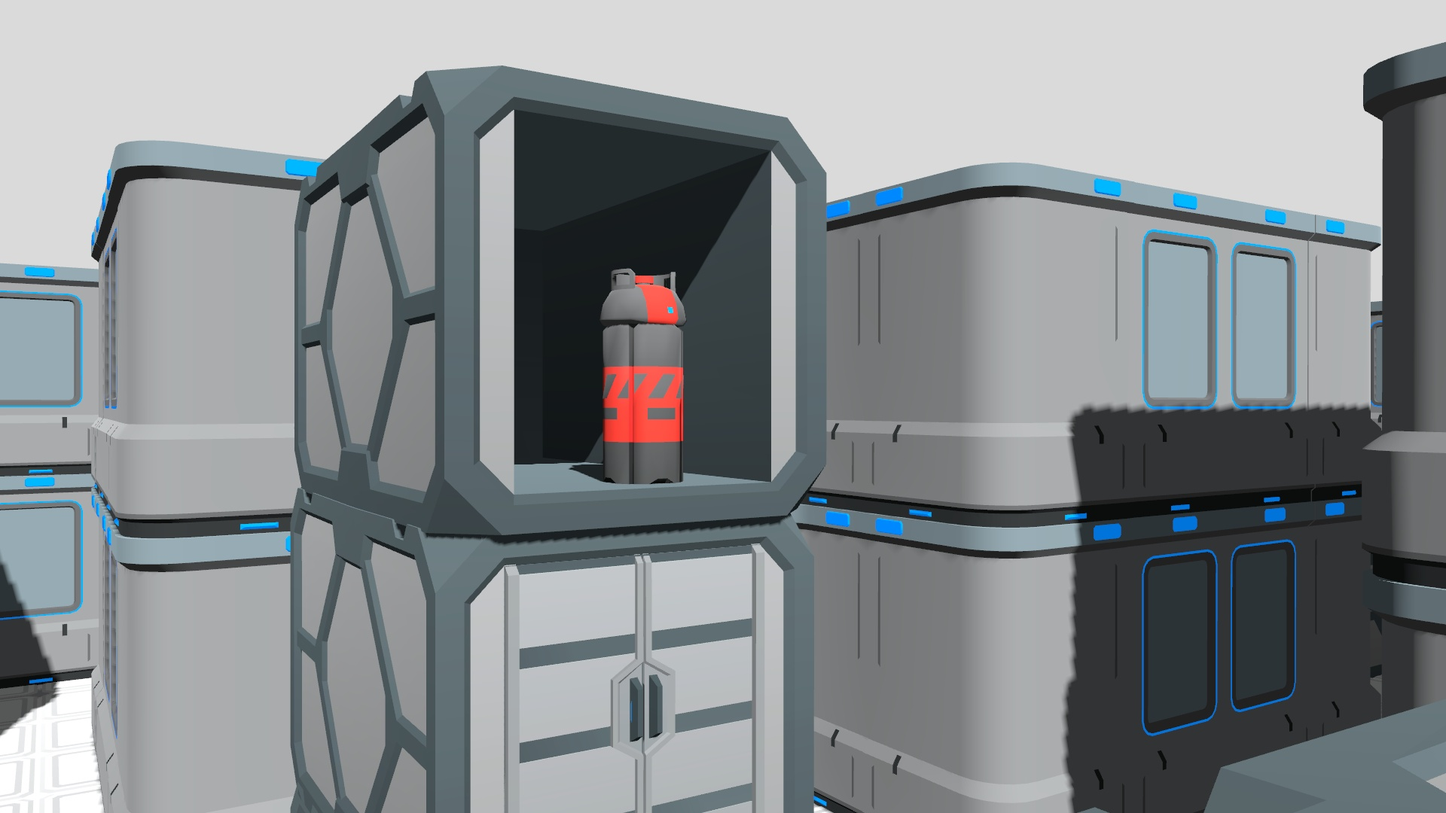red_barrel: (597, 262, 693, 487)
